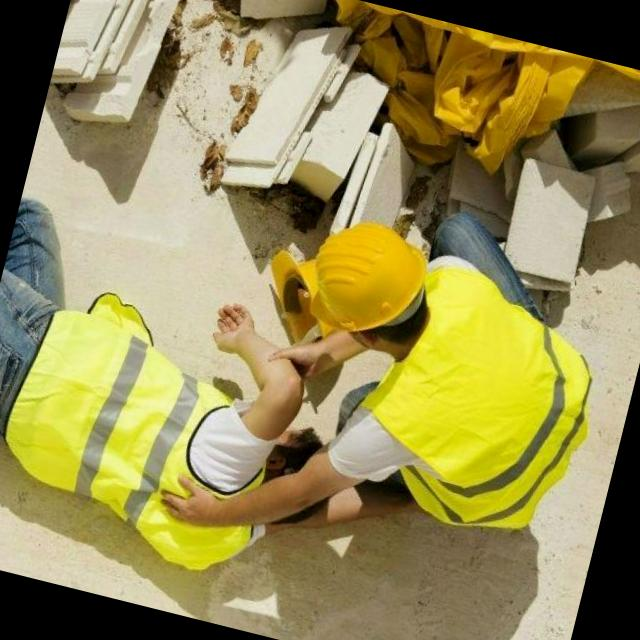helmet: (300, 212, 436, 342)
vest: (374, 295, 600, 532), (1, 302, 242, 515)
